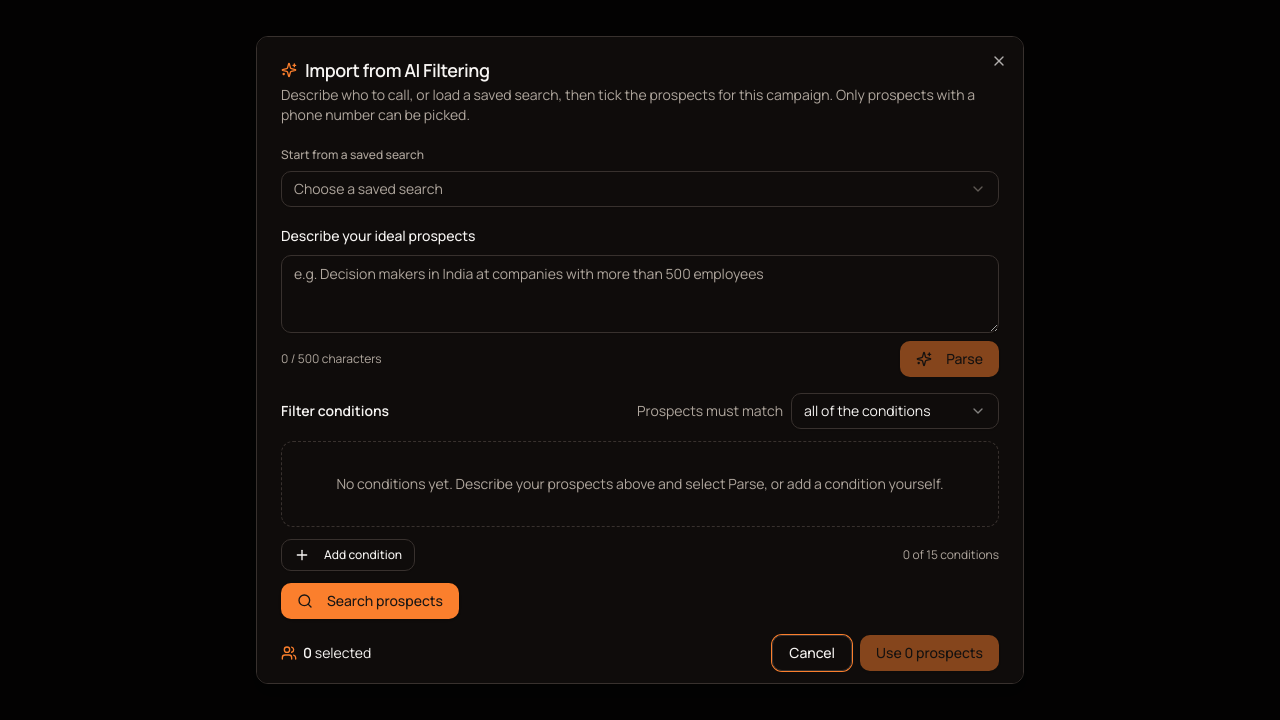
Test: runs a saved search when one is chosen
Click the dropdown named "start from a saved search": (368, 188) [281,171,999,207]
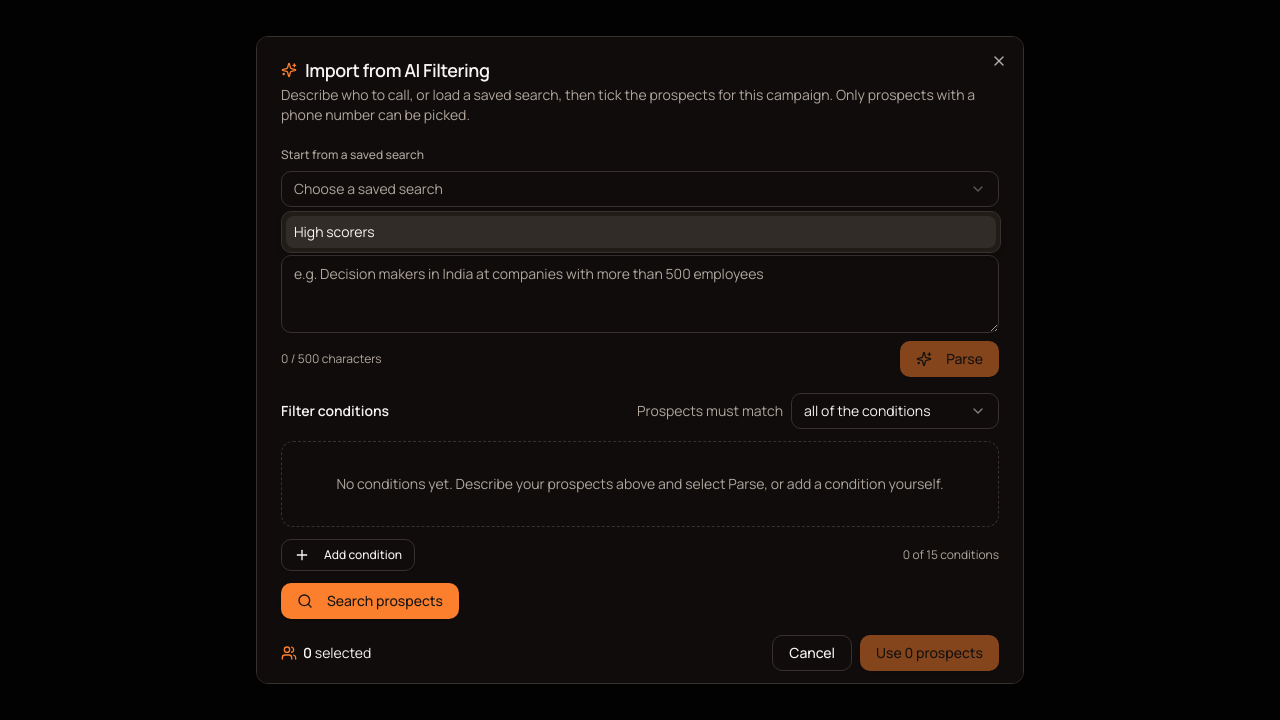
Click the option "High scorers": (334, 232) [286,216,996,248]
(page scrolled)
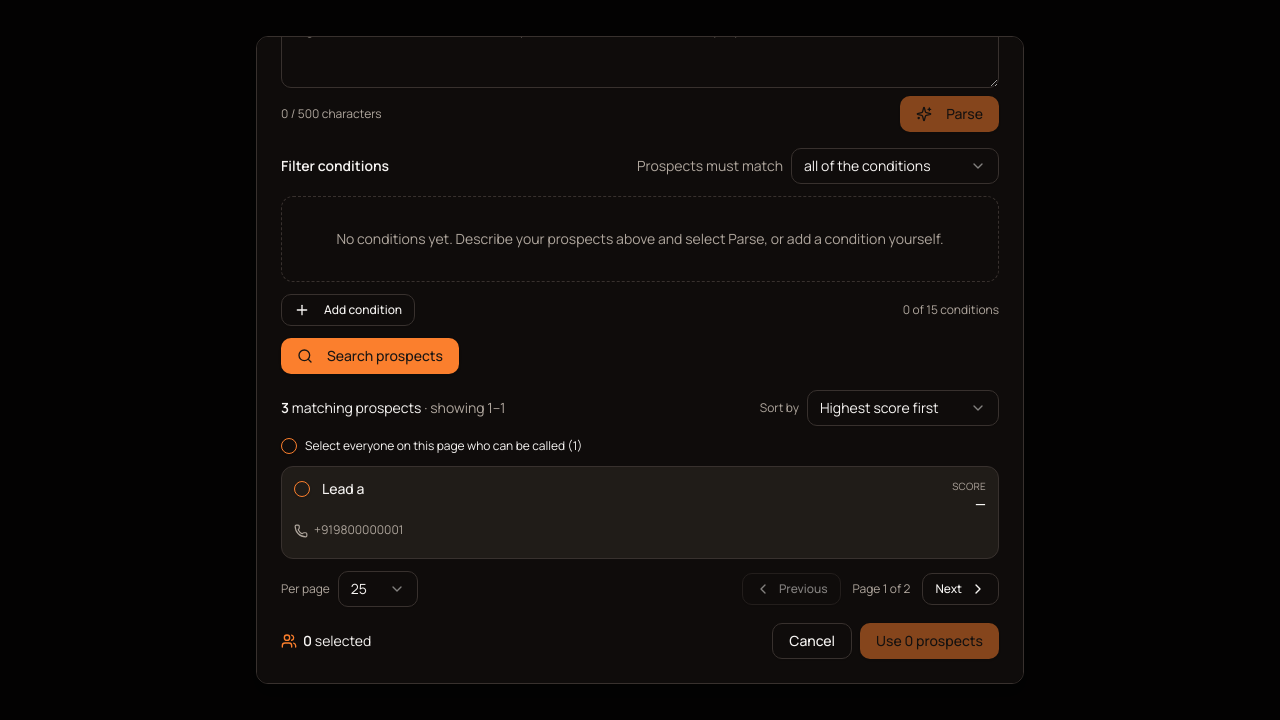
Expected: the text "Lead a" is shown, [322,479,364,498]
